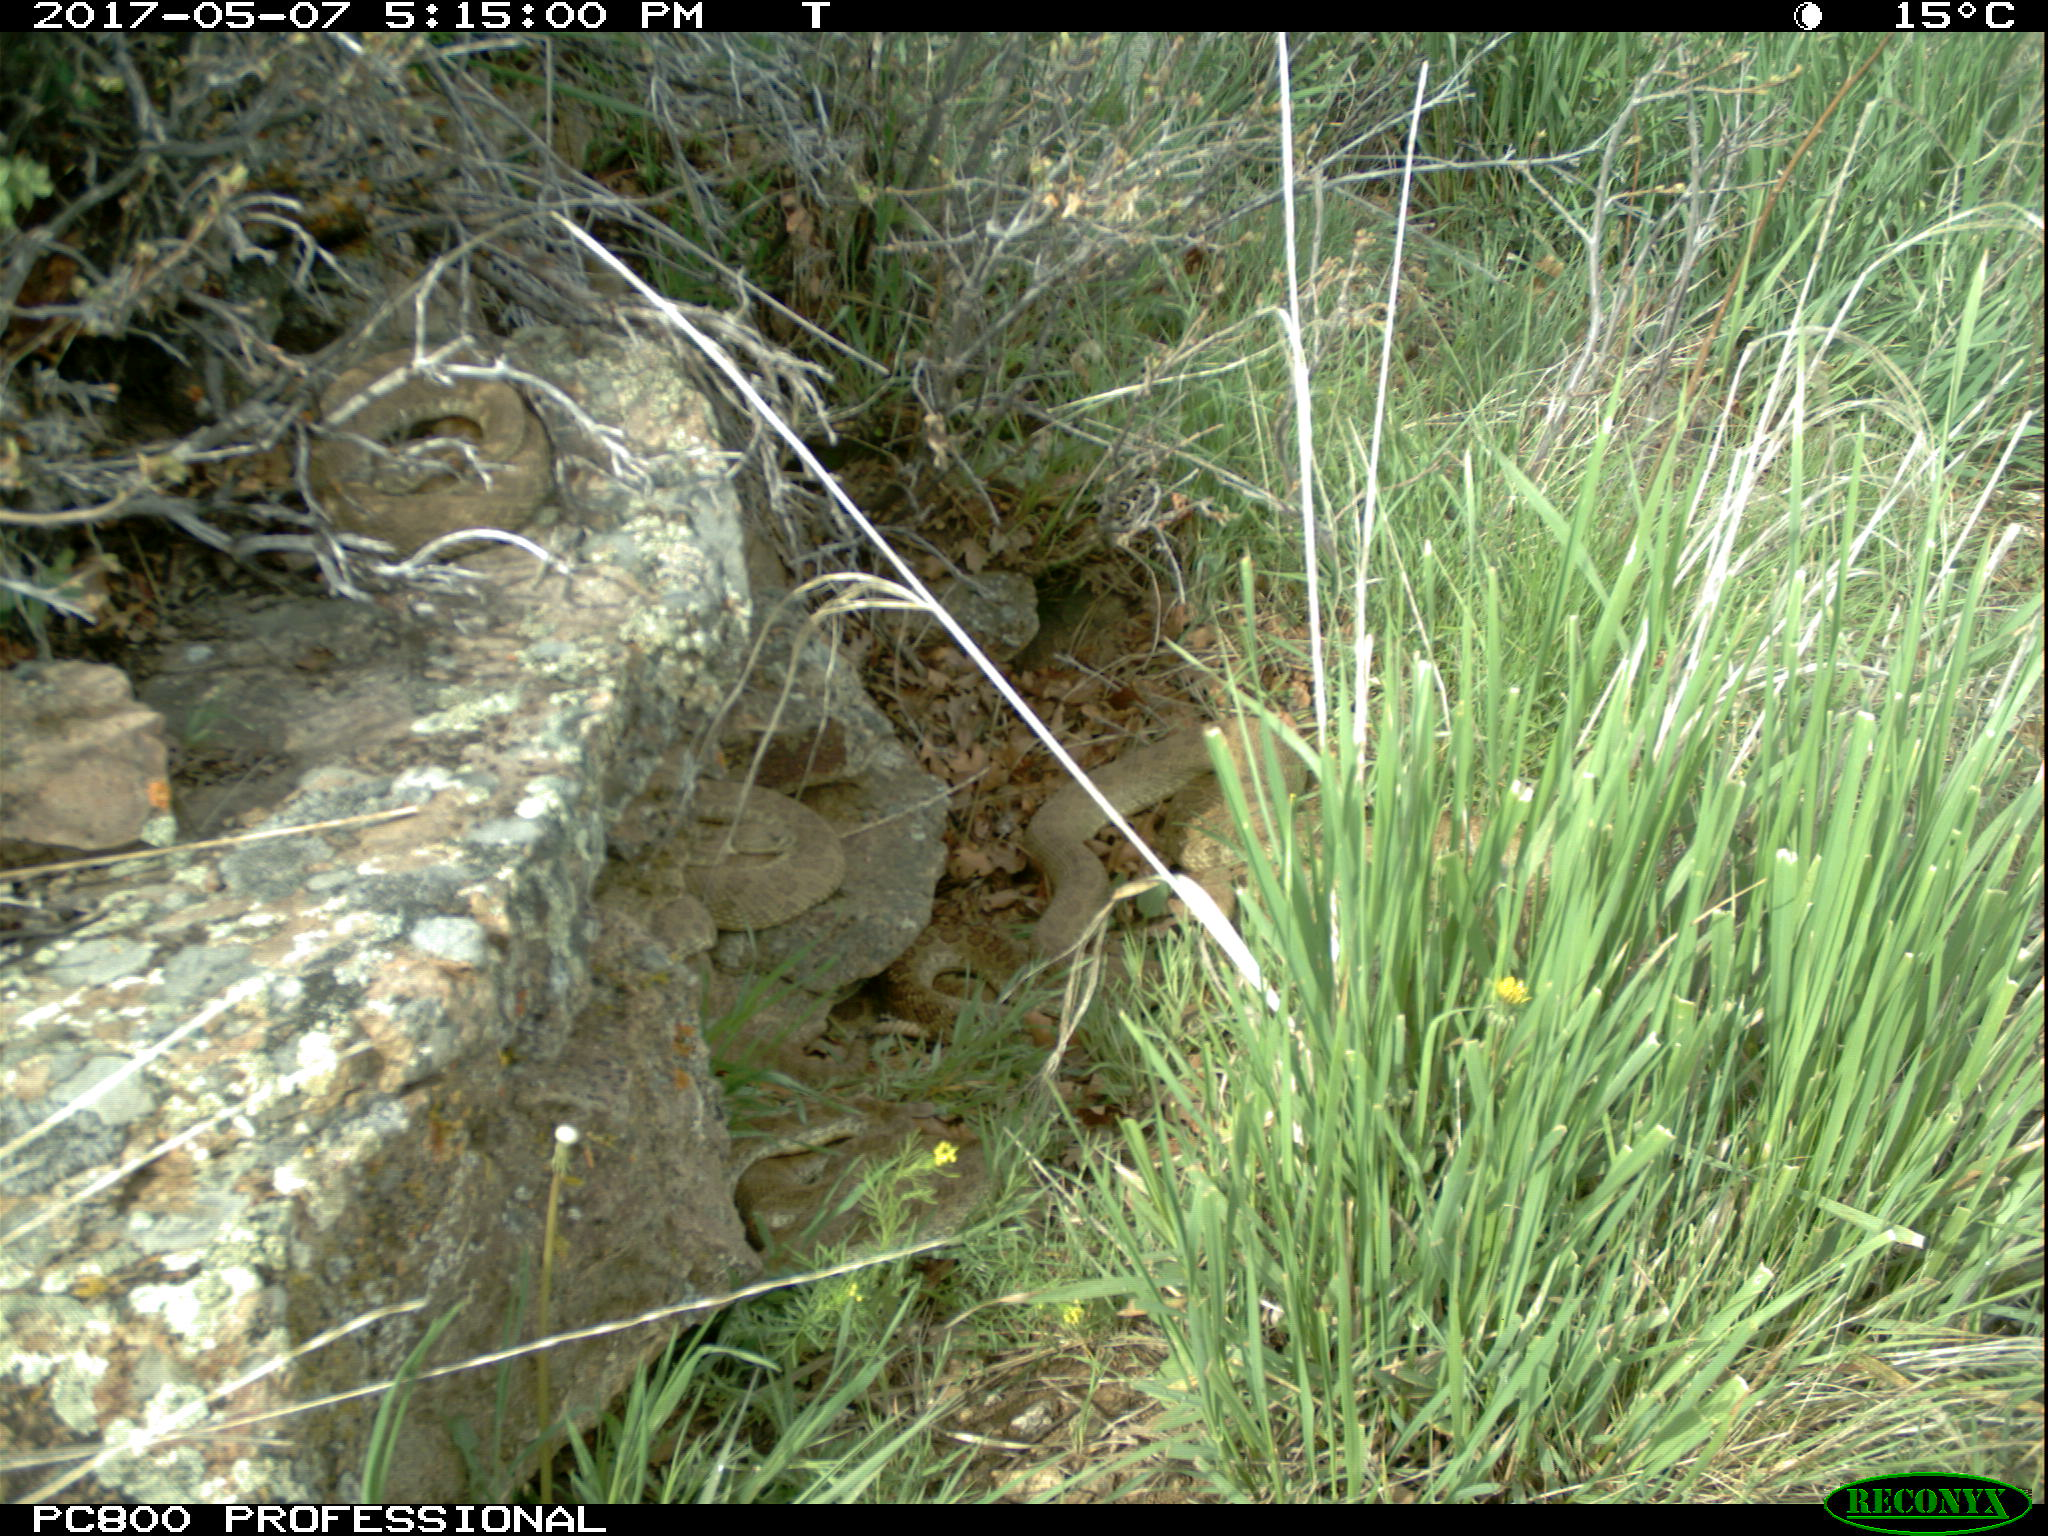snake: (1026, 705, 1347, 991), (303, 361, 577, 563), (661, 721, 877, 934), (743, 1108, 1026, 1270), (874, 905, 1056, 1047)
